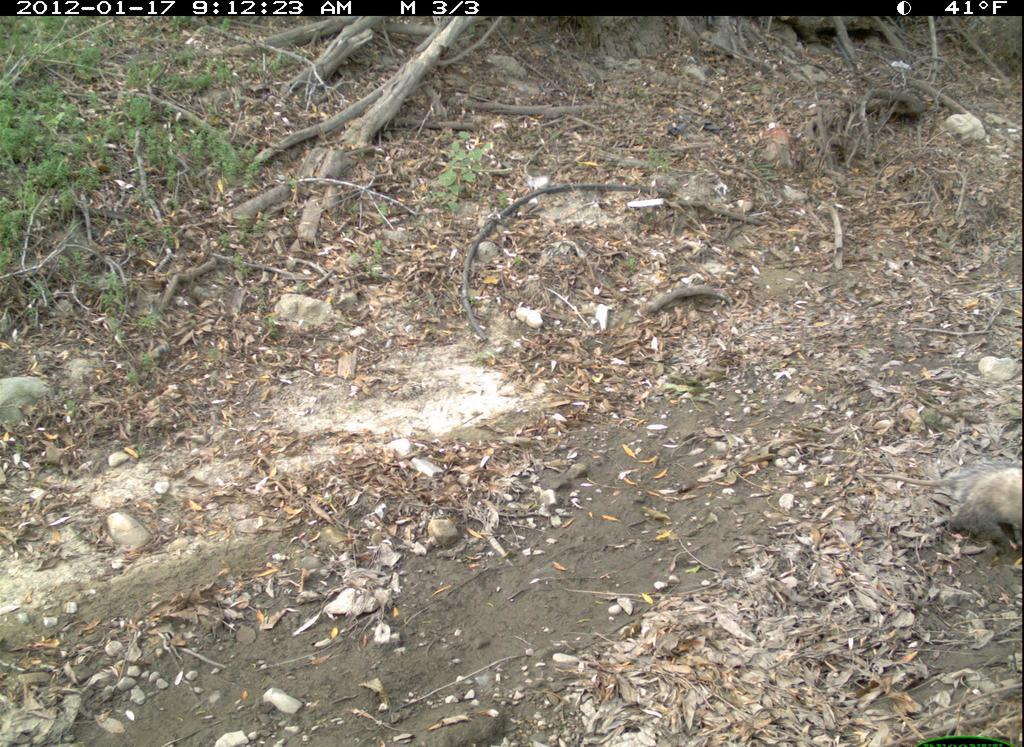opossum: (859, 443, 1023, 557)
